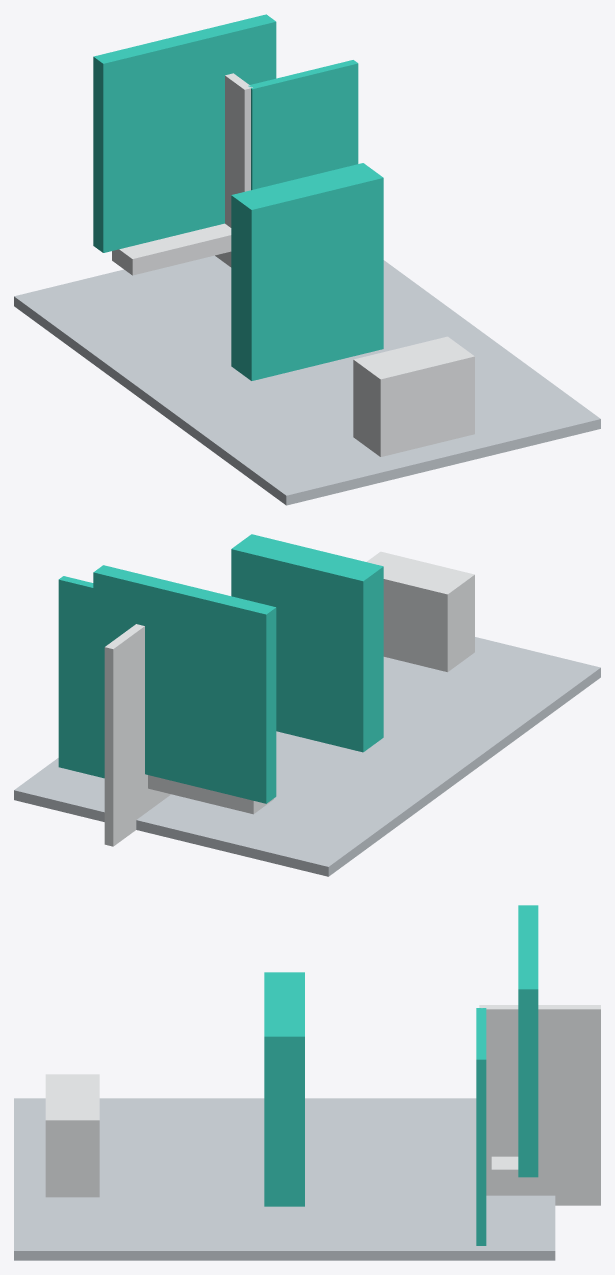
3 renders of one model, top to bottom at view 1: azimuth 30°, elevation 25°; view 2: azimuth 150°, elevation 25°; view 3: azimuth 270°, elevation 25°, orthographic.
Visible parts, largest first — view 1: Exhibition Booth Concept; view 2: Exhibition Booth Concept; view 3: Exhibition Booth Concept.
Boxes of the visible parts, left/top/right/bottom form: Exhibition Booth Concept: left=14, top=14, right=600, bottom=505; Exhibition Booth Concept: left=14, top=534, right=600, bottom=876; Exhibition Booth Concept: left=14, top=905, right=600, bottom=1260.
Bounding box in the file's own units: 4 × 2.9 × 6.51.
